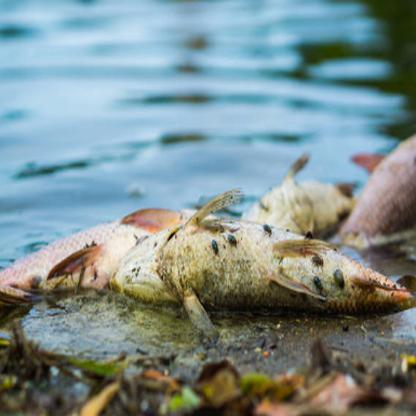deceased fish: (114, 211, 413, 320), (1, 205, 164, 299)
